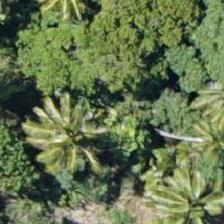coconut_tree: (21, 74, 111, 164), (141, 160, 223, 223), (166, 93, 223, 183)
